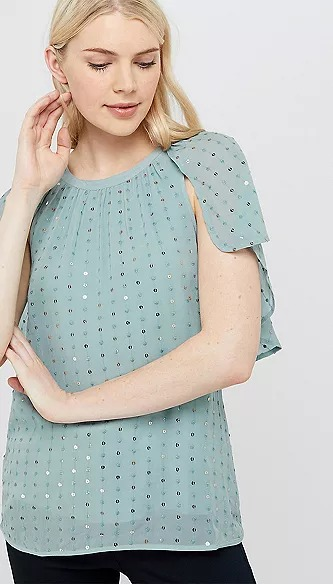C_short blouse: (1, 134, 281, 563)
